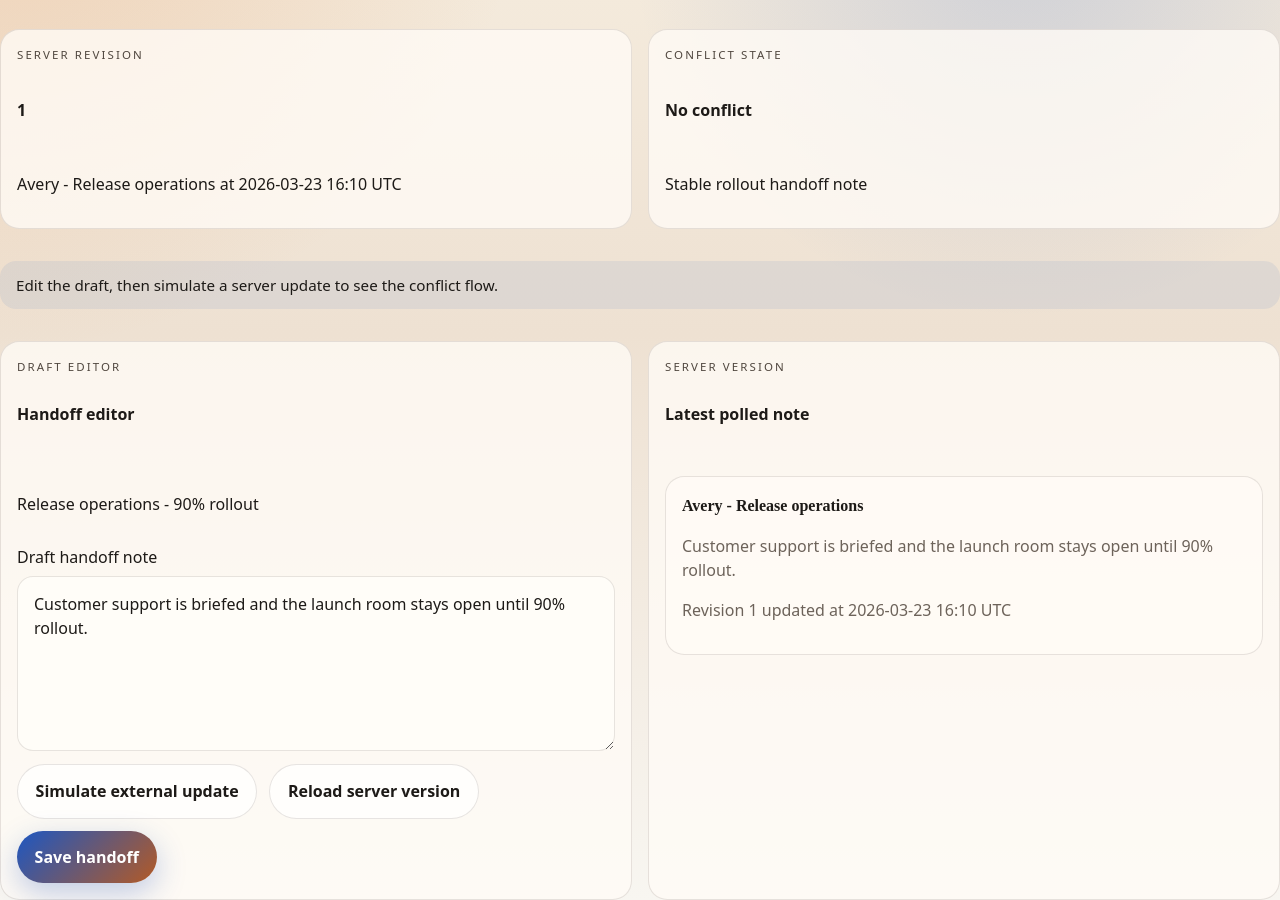
it: release handoff conflict resolution › reloads the server version and then allows a clean save
(page scrolled)
Replace the text in the text box labelled "Draft handoff note" with "Customer support is briefed, but I still need to add the escalation matrix before the launch room closes." at [316, 664], box [17, 576, 615, 751]
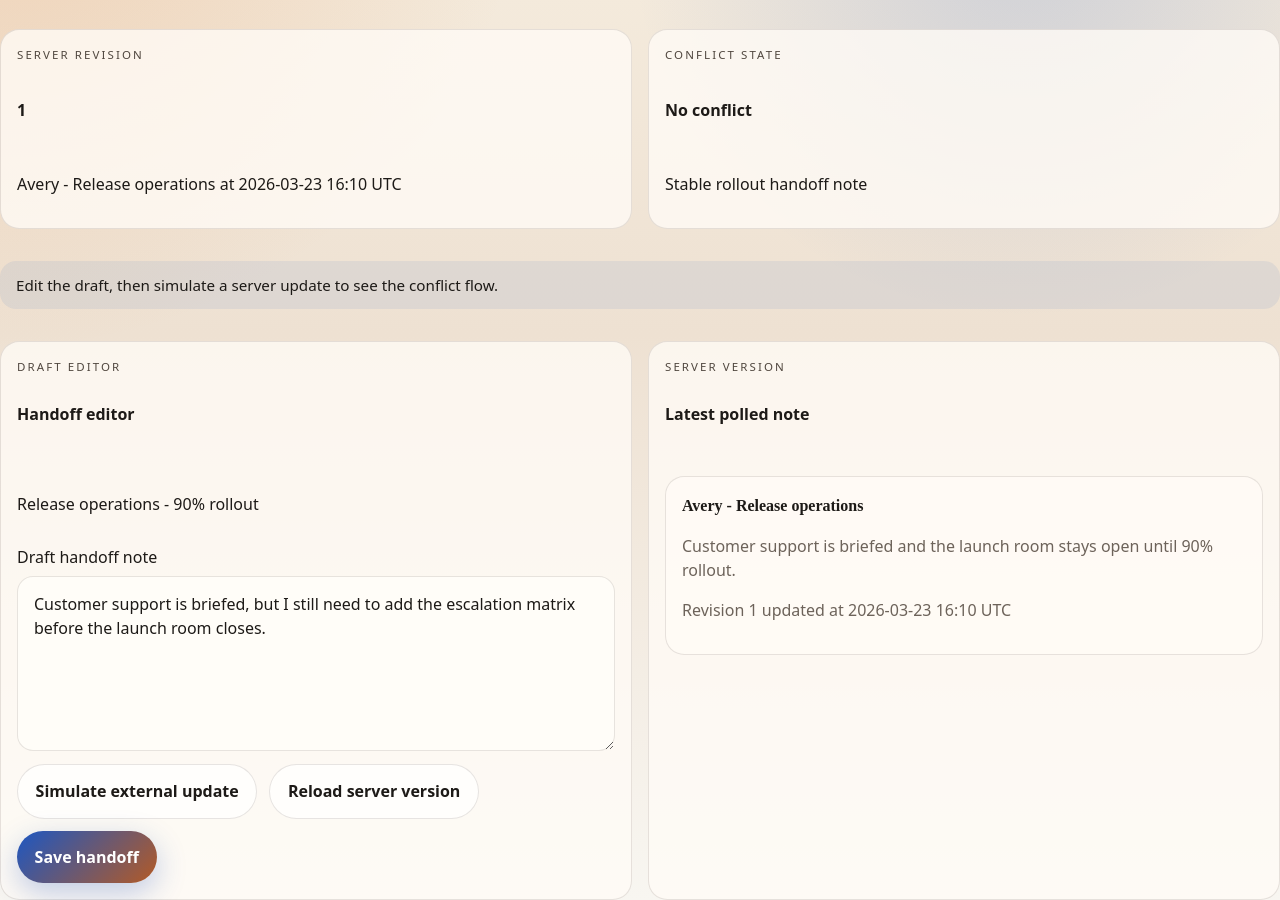
Click the button "Simulate external update" at [137, 791], box [17, 764, 257, 819]
Wait 180 ms
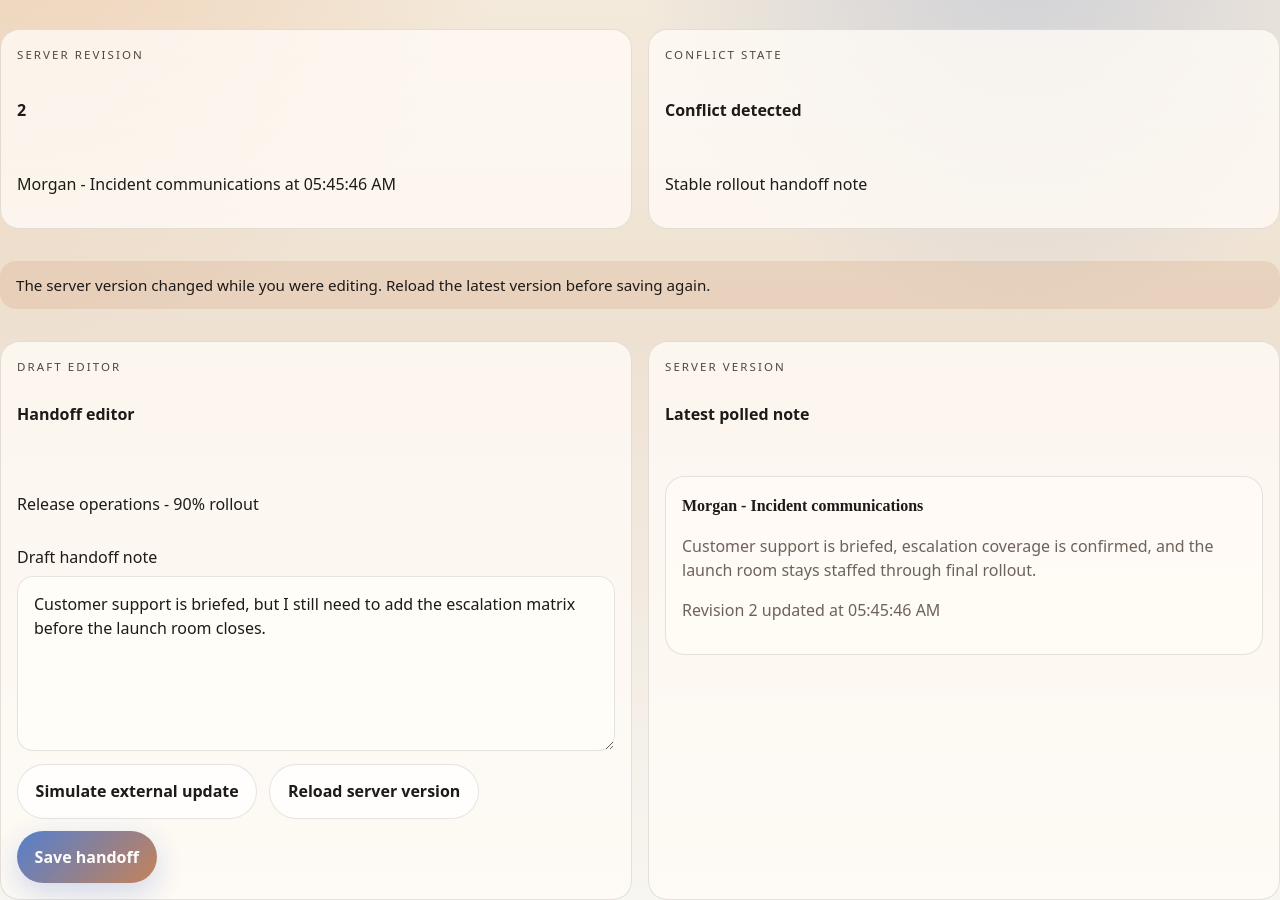
Click the button "Reload server version" at [374, 791], box [269, 764, 479, 819]
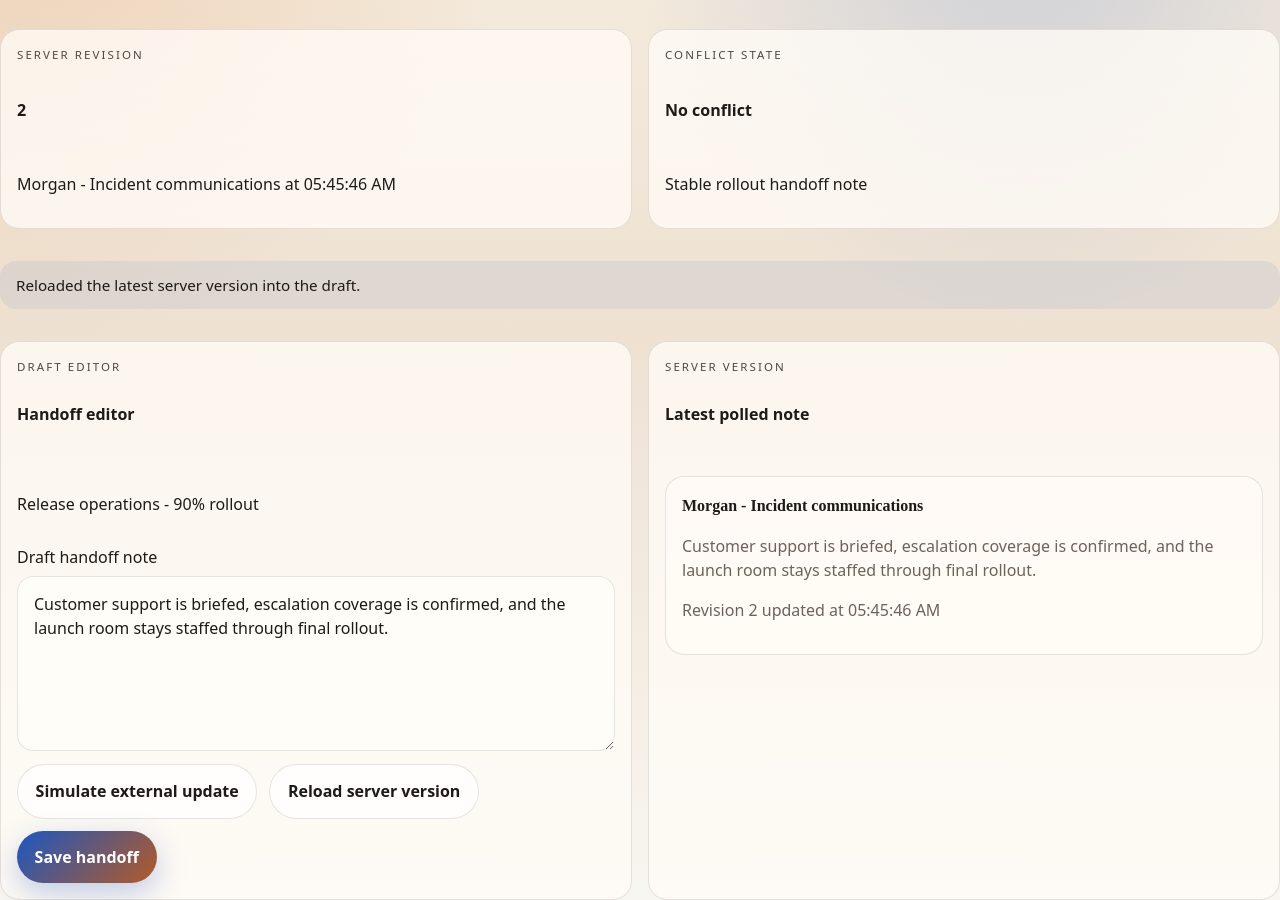
Result: the text "Reloaded the latest server version into the draft." is shown at [0, 261, 1279, 309]
Replace the text in the text box labelled "Draft handoff note" with "Customer support is briefed, escalation coverage is confirmed, and the handoff note is final for rollout." at [316, 664], box [17, 576, 615, 751]
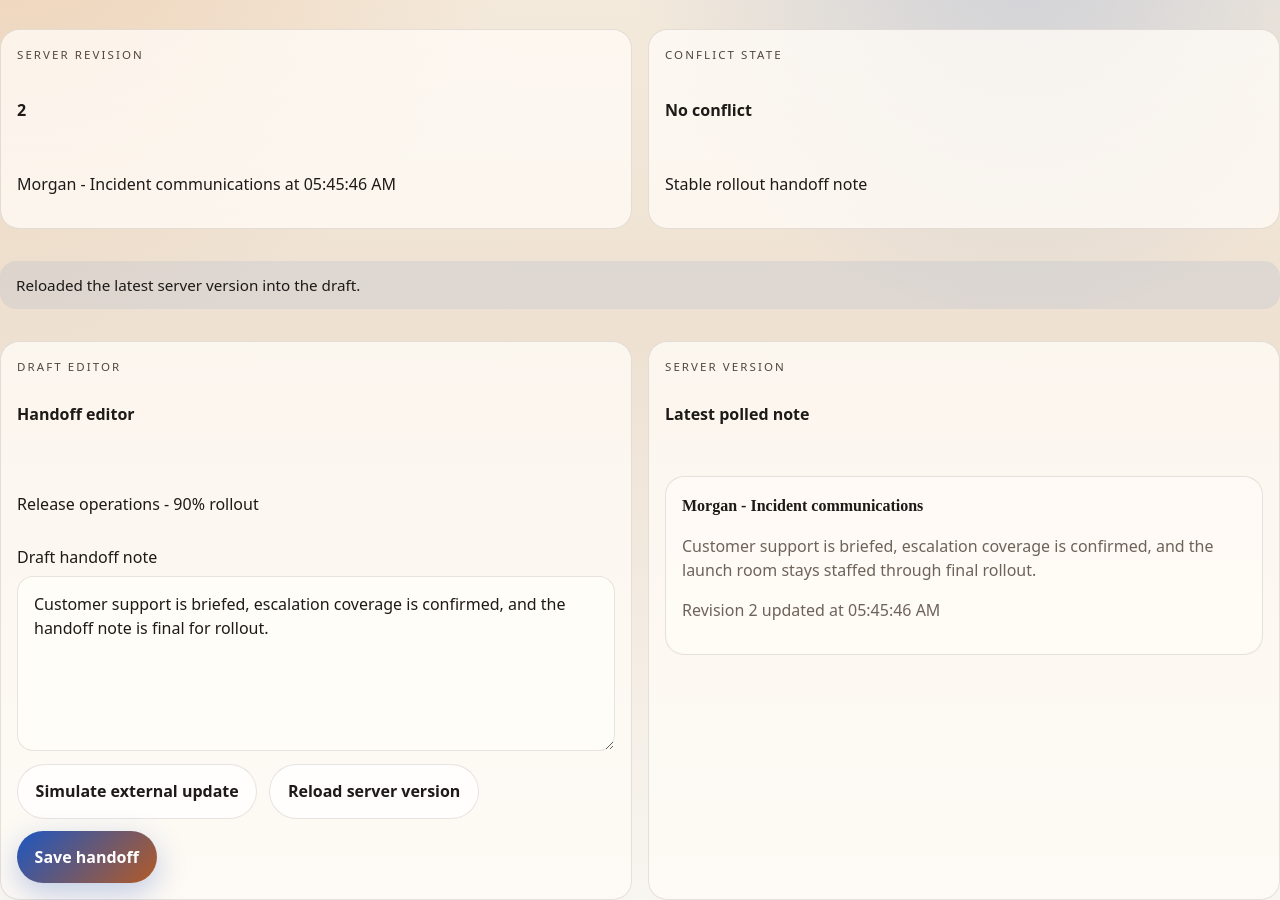
Click the button "Save handoff" at [87, 857], box [17, 831, 156, 884]
Wait 260 ms
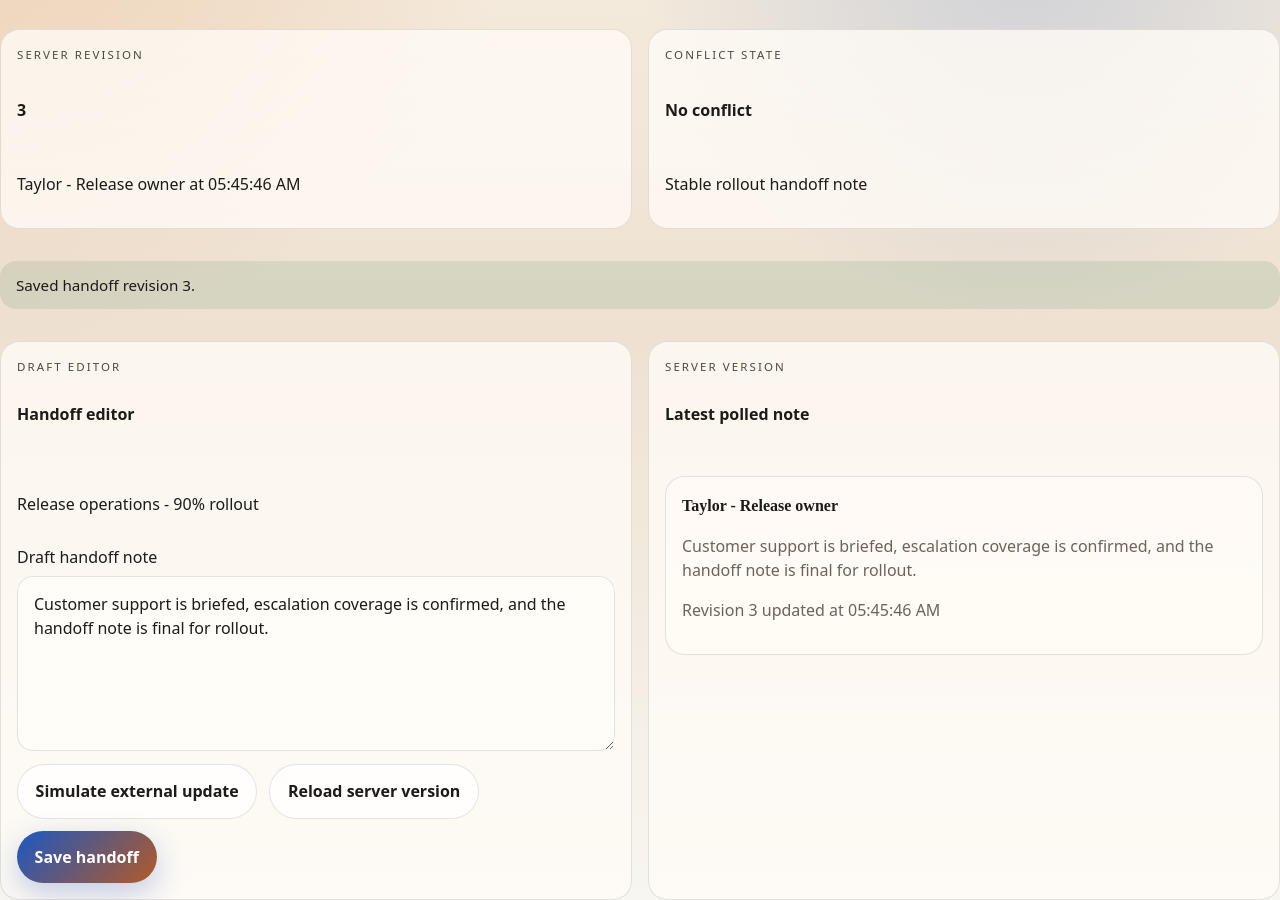
Result: the text "Saved handoff revision 3." is shown at [0, 261, 1279, 309]
